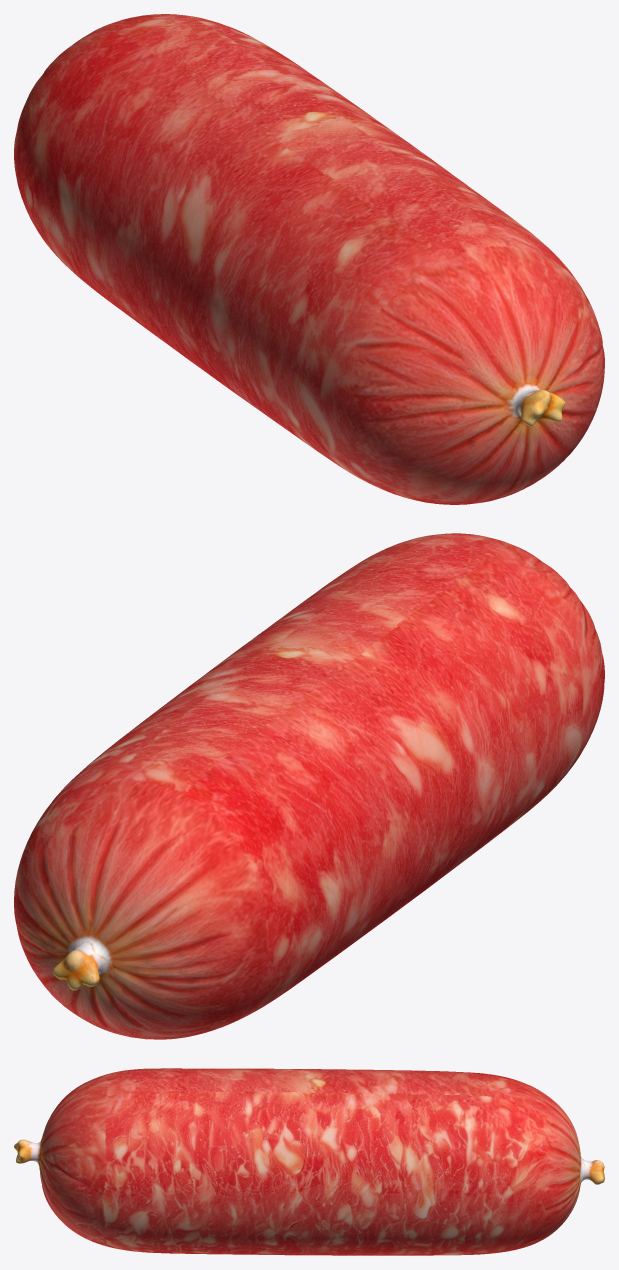
Rendered from noodle-sausage.glb.
3 views of the same model, one above another, from view 1: azimuth 30°, elevation 25°; view 2: azimuth 150°, elevation 25°; view 3: azimuth 270°, elevation 25° (orthographic). The views are drawn at different scales.
Parts seen in each view (by area): view 1: mesh; view 2: mesh; view 3: mesh.
Boxes of the visible parts, x1,y1,x2,y2 form: mesh: (14, 14, 604, 504); mesh: (14, 533, 604, 1039); mesh: (14, 1068, 604, 1255).
Size of the model in its own units: 0.6494 by 0.6289 by 2.
1 material, 1 textured.
